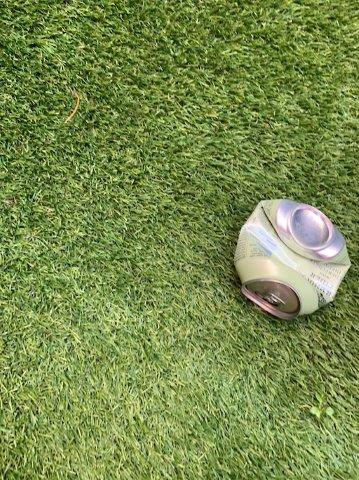kaleng: (235, 200, 349, 319)
